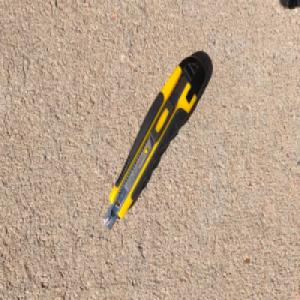Cutter: (102, 54, 207, 231)
